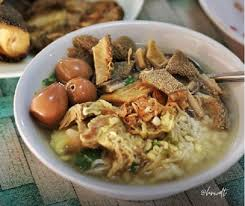soto: (21, 20, 245, 188)
